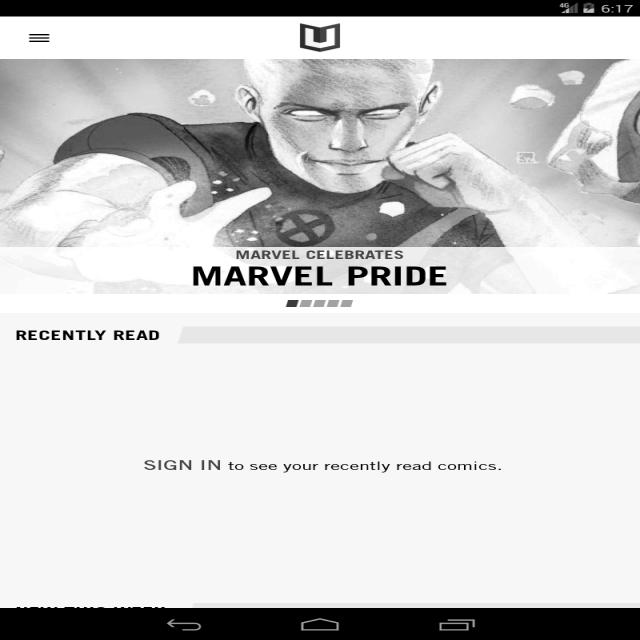ImageButton: (13, 27, 75, 48)
ImageView: (2, 58, 632, 245), (286, 19, 368, 51)
TextView: (132, 447, 522, 479), (175, 248, 457, 292), (13, 323, 166, 345)
